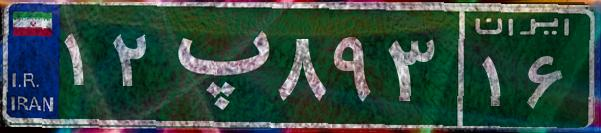1: (57, 26, 110, 107), (475, 38, 525, 113)
2: (110, 28, 158, 105)
3: (385, 28, 445, 110)
6: (525, 38, 570, 115)
8: (273, 28, 330, 110)
9: (330, 28, 385, 110)
پ: (158, 15, 273, 115)
